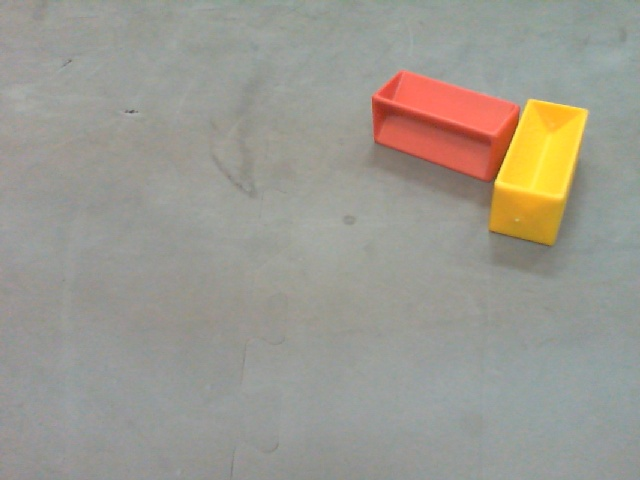RedSample: (371, 69, 524, 182)
YellowSample: (491, 103, 582, 243)
